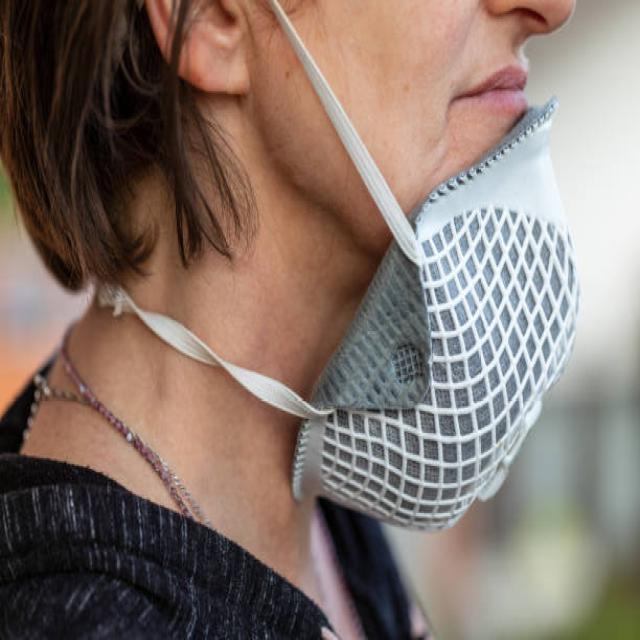hairnet: (152, 0, 578, 550)
